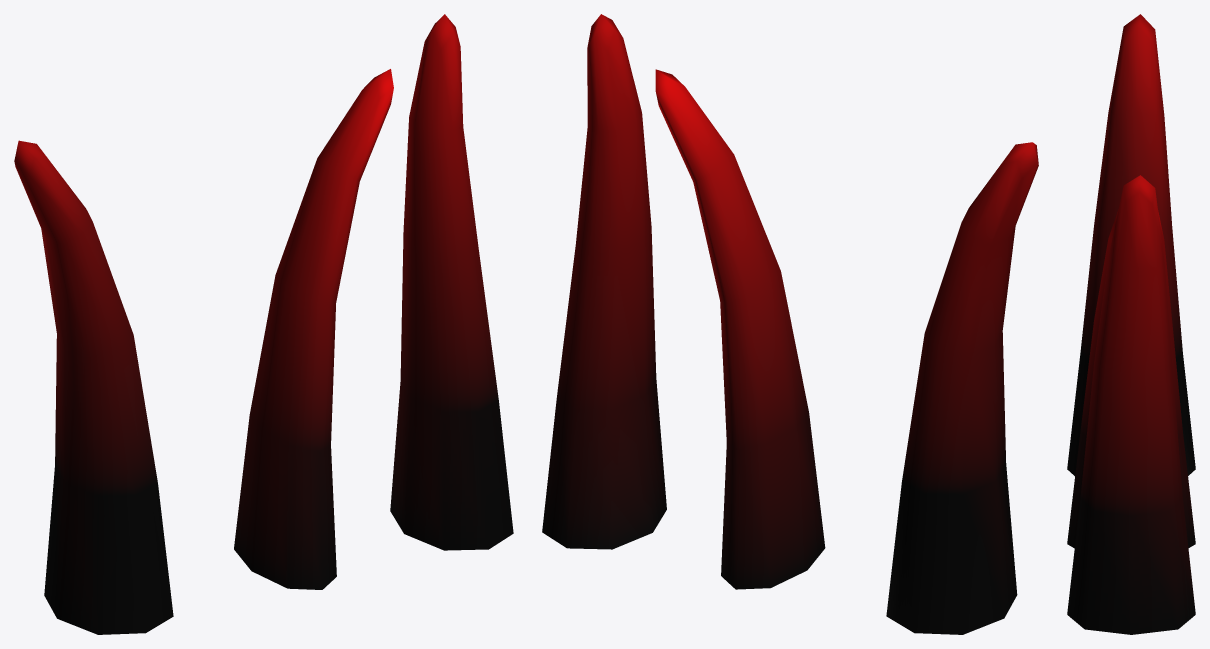
The model's file is KM_Grass01.fbx.
3 renders of one model, left to right at view 1: azimuth 30°, elevation 25°; view 2: azimuth 150°, elevation 25°; view 3: azimuth 270°, elevation 25°, orthographic. The views are drawn at different scales.
Visible parts, largest first — view 1: Grass.001, Grass.002, Grass; view 2: Grass.001, Grass.002, Grass; view 3: Grass.001, Grass.002, Grass.
Part boxes in pixels (x1,y1,x2,y2): Grass.001: [390, 14, 513, 550]; Grass.002: [14, 140, 173, 634]; Grass: [234, 69, 393, 589]; Grass.001: [542, 14, 666, 549]; Grass.002: [886, 142, 1038, 634]; Grass: [655, 69, 825, 589]; Grass.001: [1067, 175, 1195, 634]; Grass.002: [1067, 14, 1195, 475]; Grass: [1067, 209, 1195, 548].
Bounding box in the file's own units: 0.2131 × 0.2139 × 0.0569.
